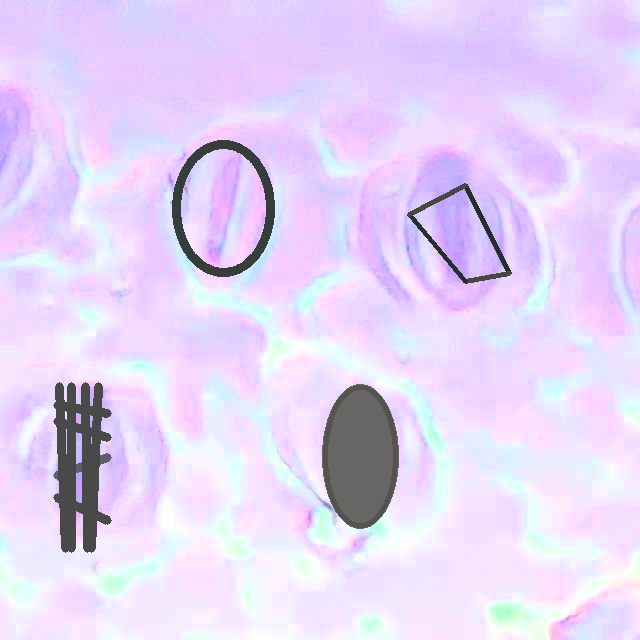open: (172, 139, 275, 277), (323, 385, 398, 527), (407, 183, 511, 283), (53, 382, 111, 552)
